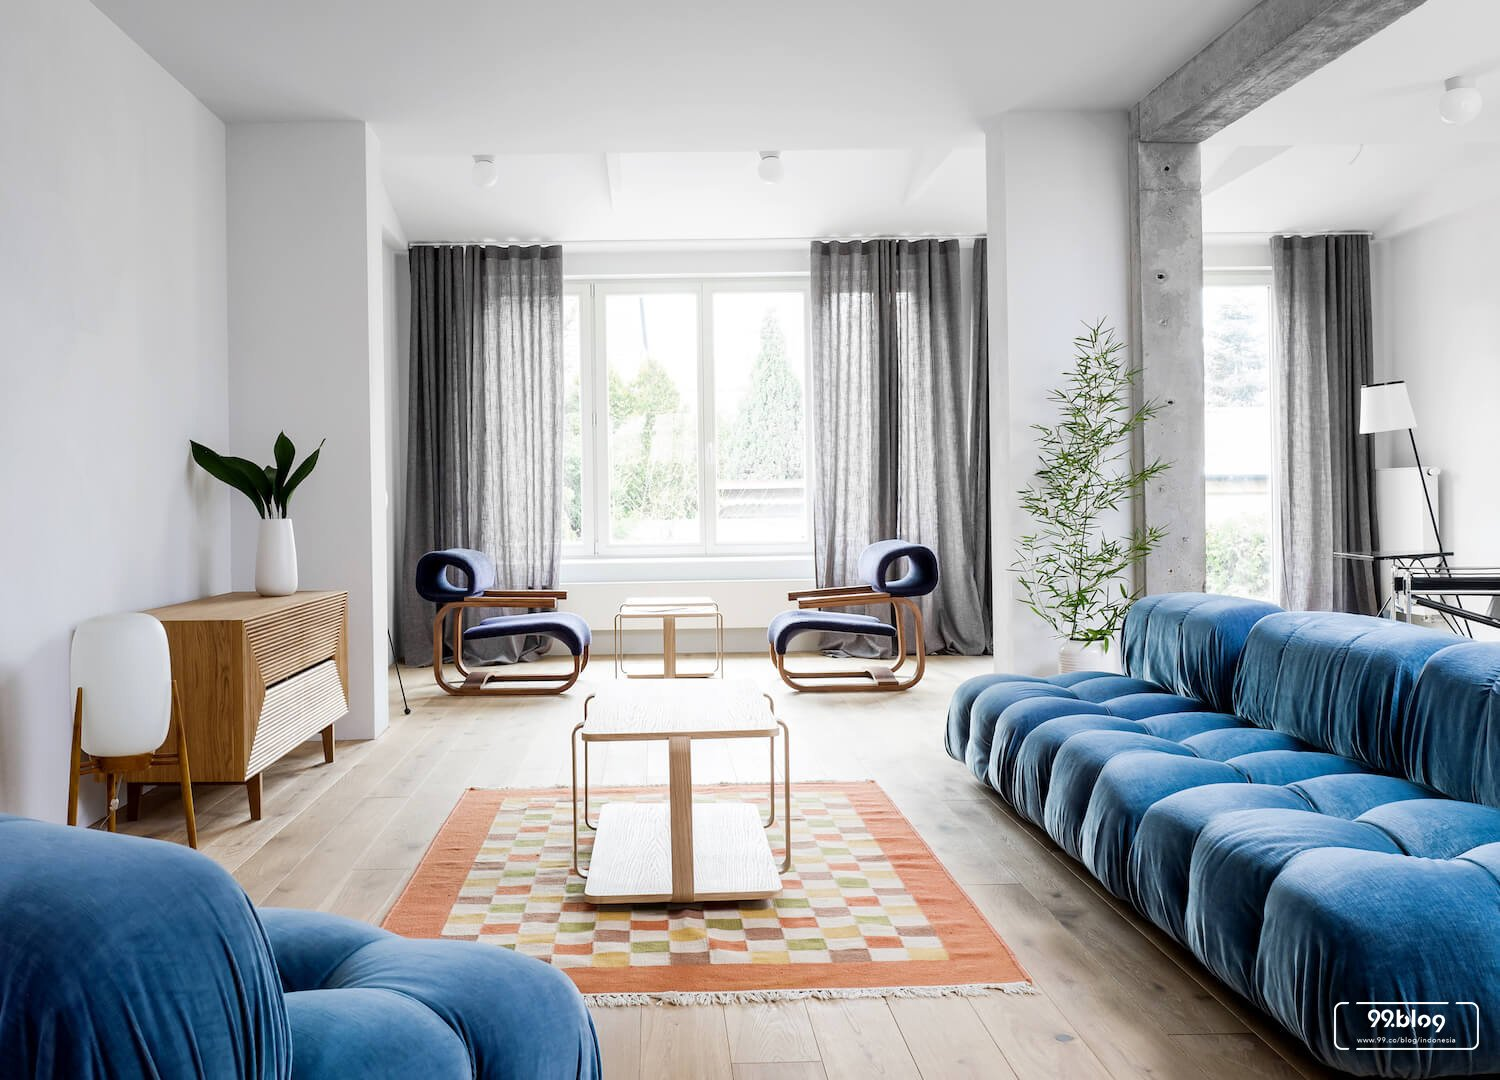kursi: (2, 810, 615, 1080), (770, 535, 940, 697), (425, 538, 595, 700)
lampu: (1359, 381, 1456, 557)
meja: (569, 678, 800, 912), (613, 587, 734, 680)
sova: (941, 594, 1500, 1059)
tanaman: (1018, 316, 1163, 669), (191, 435, 318, 590)
